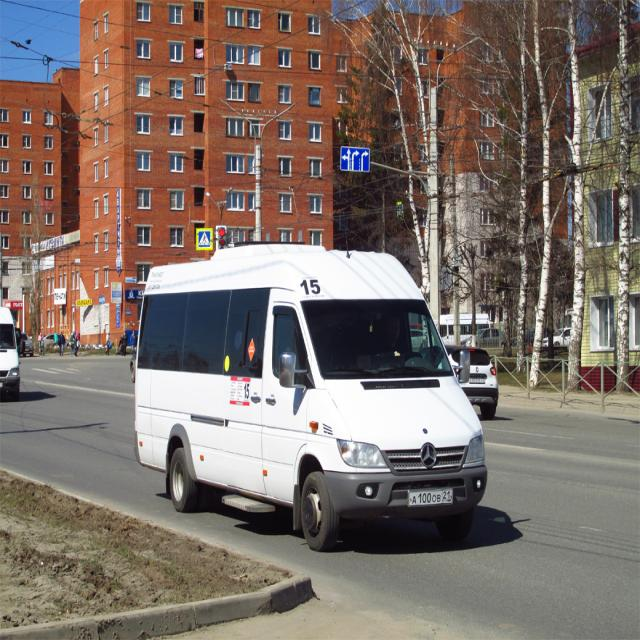number-of-bus: (299, 275, 325, 300)
